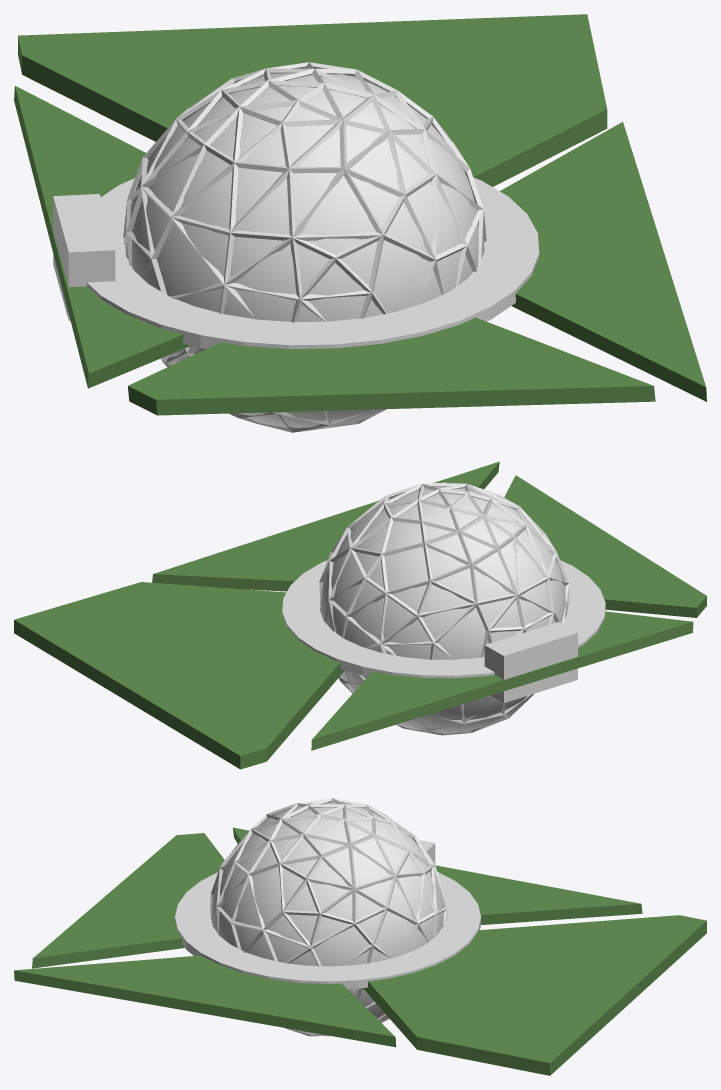
File: DomenKonferens.fbx
3 renders of one model, top to bottom at view 1: azimuth 30°, elevation 25°; view 2: azimuth 150°, elevation 25°; view 3: azimuth 270°, elevation 25°, orthographic. The views are drawn at different scales.
Parts seen in each view (by area): view 1: DomenKonferens; view 2: DomenKonferens; view 3: DomenKonferens.
Boxes of the visible parts, <box> form: DomenKonferens: <box>14,14,706,432</box>; DomenKonferens: <box>14,461,706,769</box>; DomenKonferens: <box>14,798,706,1075</box>.
Size of the model in its own units: 6173 by 2641 by 7668.
